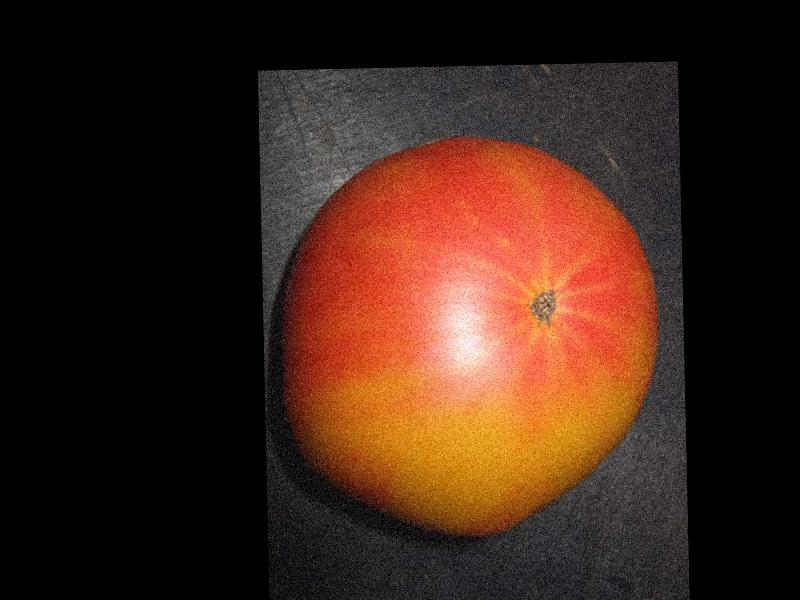Tomato: (275, 133, 662, 535)
